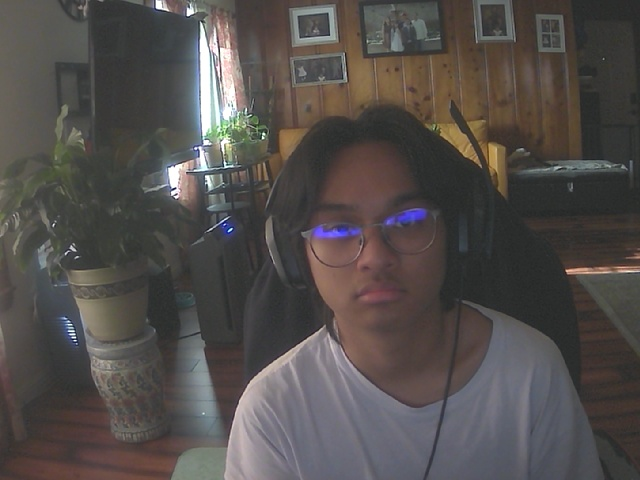neutral: (299, 132, 457, 340)
